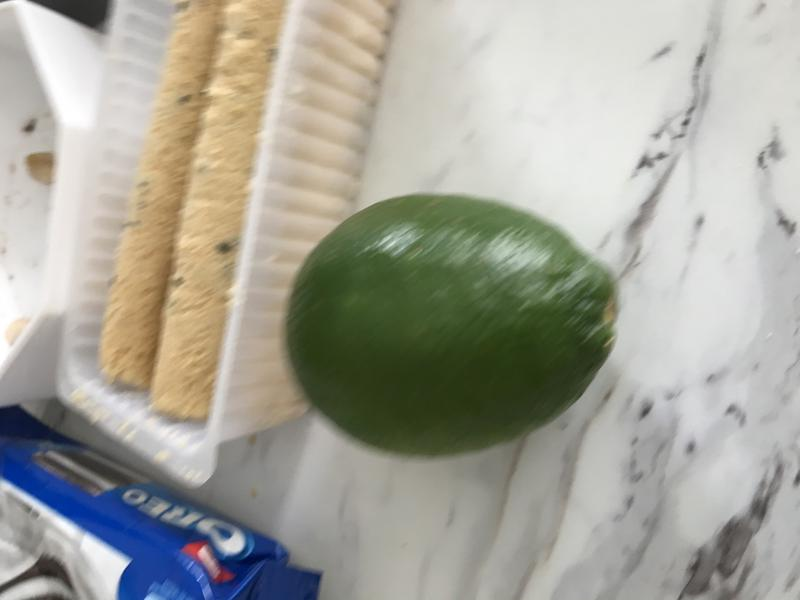lime: (269, 181, 634, 467)
